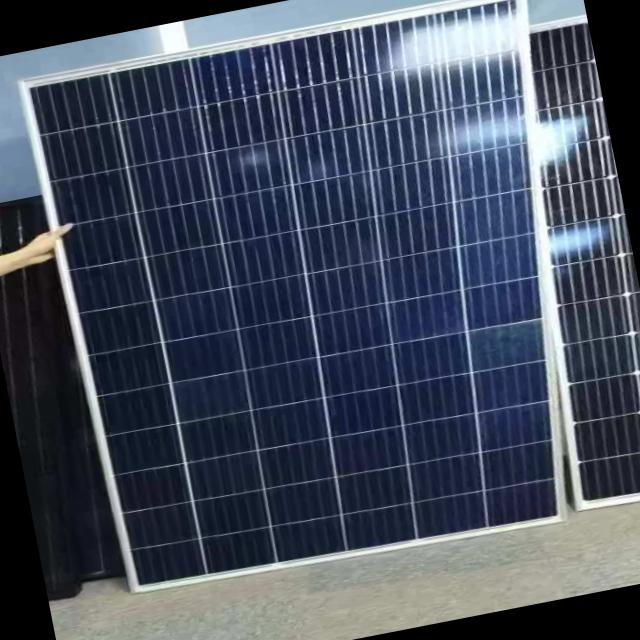no faulty: (35, 0, 616, 602), (501, 36, 640, 510)
